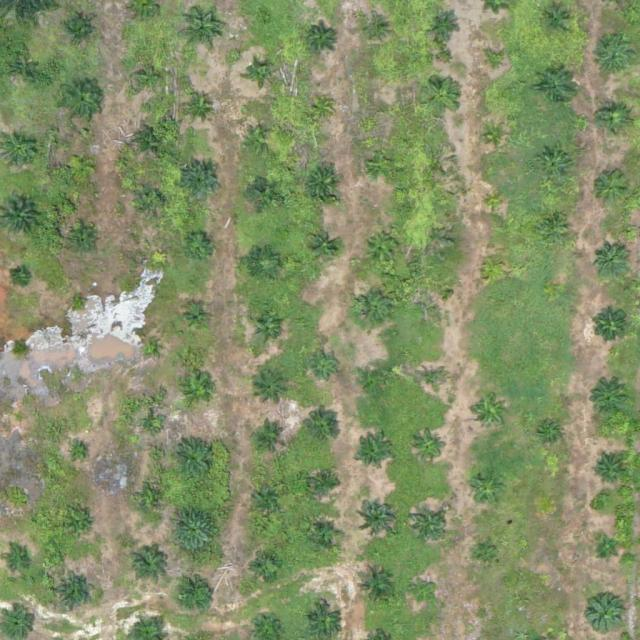Healthy: (130, 58, 169, 98)
Small: (170, 435, 217, 483), (172, 572, 219, 619), (172, 507, 219, 554), (590, 168, 630, 208), (593, 39, 633, 79), (253, 368, 293, 408), (356, 435, 395, 475), (585, 592, 624, 632), (356, 568, 395, 608), (128, 543, 167, 583), (592, 242, 632, 281), (589, 379, 628, 419), (63, 82, 102, 122), (56, 572, 95, 612), (182, 14, 221, 54), (352, 288, 392, 327), (305, 164, 344, 204), (364, 227, 403, 267), (539, 66, 579, 105), (537, 147, 576, 187), (424, 77, 463, 117), (3, 50, 42, 90), (411, 507, 450, 546), (358, 496, 397, 535), (467, 470, 506, 509), (591, 306, 630, 345), (471, 393, 510, 432), (183, 162, 222, 201), (303, 412, 342, 451), (415, 431, 446, 463), (593, 455, 624, 487), (250, 249, 281, 281), (543, 6, 574, 38), (249, 175, 280, 207), (136, 126, 167, 158), (184, 91, 215, 123), (137, 185, 168, 217), (61, 14, 92, 46), (67, 151, 98, 183), (185, 231, 216, 263), (308, 231, 339, 263), (417, 365, 448, 397), (362, 364, 393, 396), (311, 349, 342, 381), (253, 313, 284, 345), (251, 551, 282, 582), (598, 106, 629, 137), (184, 377, 215, 408), (308, 23, 339, 54), (539, 211, 570, 242), (430, 10, 461, 41), (368, 150, 399, 181), (245, 125, 276, 156), (71, 227, 102, 258), (310, 468, 341, 499), (311, 520, 342, 551), (252, 480, 283, 511), (255, 421, 286, 452), (181, 304, 212, 335), (4, 550, 28, 574), (484, 50, 508, 74), (483, 125, 507, 149), (484, 192, 508, 216), (482, 254, 506, 278), (310, 96, 334, 120), (250, 62, 274, 86), (539, 424, 563, 448), (411, 581, 435, 605), (70, 515, 93, 539), (596, 538, 619, 562), (364, 20, 387, 44), (372, 100, 395, 124), (424, 287, 447, 311), (476, 542, 499, 565), (146, 493, 162, 509), (14, 270, 29, 286), (142, 339, 157, 355), (145, 419, 160, 435), (72, 446, 87, 462), (72, 294, 87, 309), (13, 412, 28, 427)
